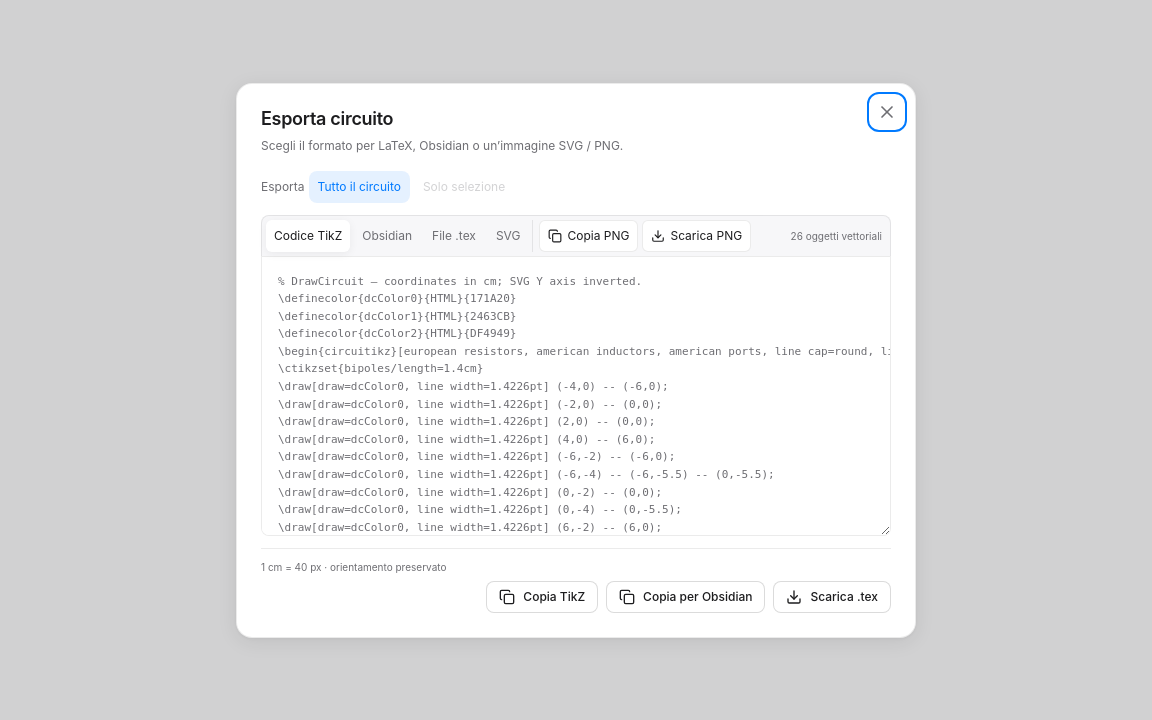
Test: Obsidian copy in the existing export dialog › still copies only raw TikZ after previewing or copying Obsidian
The width and height of the screenshot is (1152, 720).
Click the button "Copia per Obsidian": {"x": 686, "y": 596} [606, 580, 766, 612]
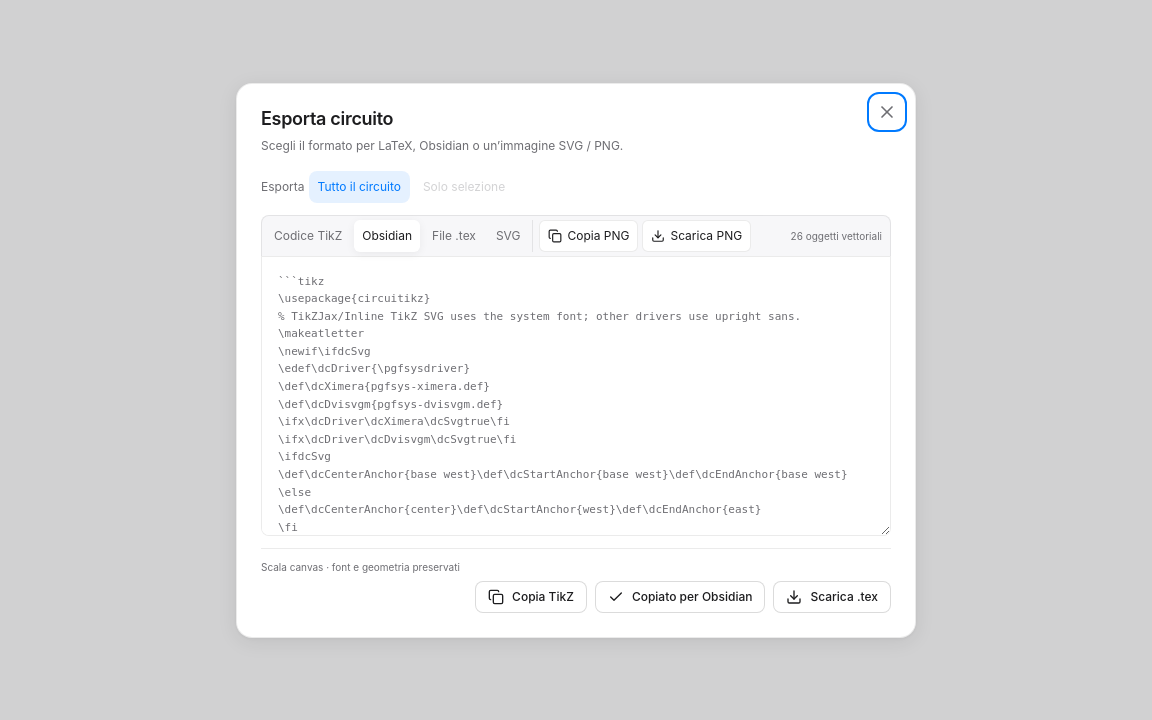
Expected: the button "Copiato per Obsidian" is shown, [595, 580, 766, 612]
Click the button "Copia TikZ": {"x": 531, "y": 596} [475, 580, 587, 612]
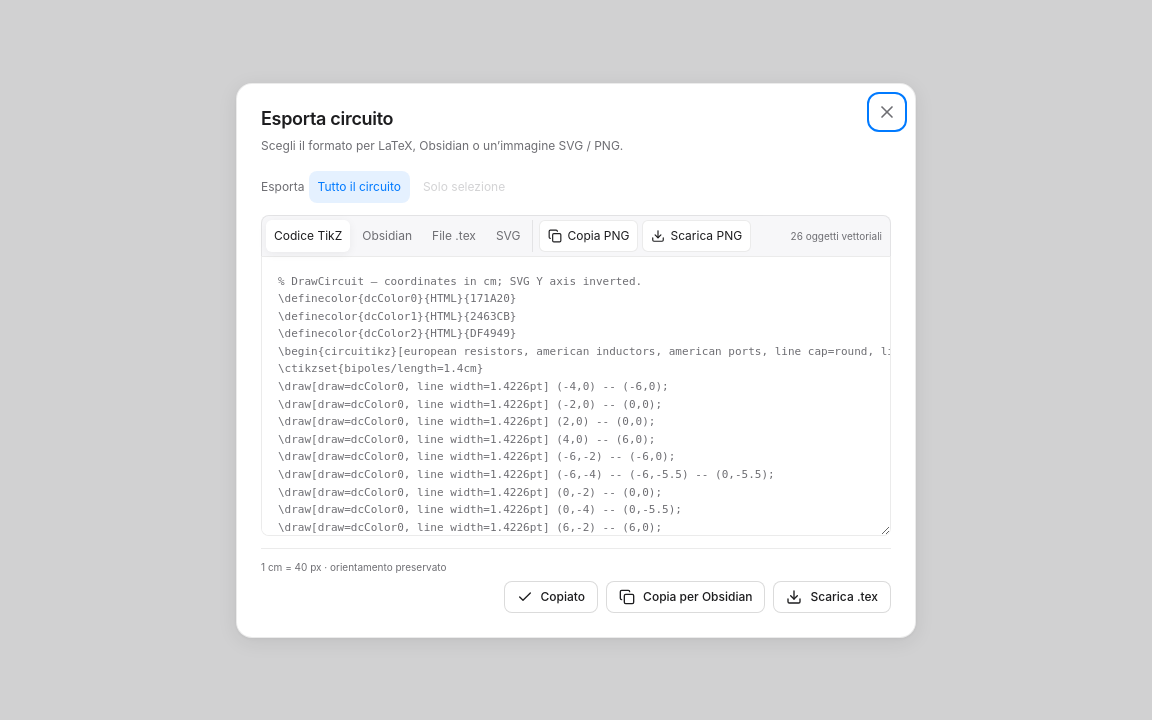
Expected: the button "Copiato" is shown, [504, 580, 598, 612]
Expected: the button "Copia per Obsidian" is shown, [606, 580, 766, 612]
